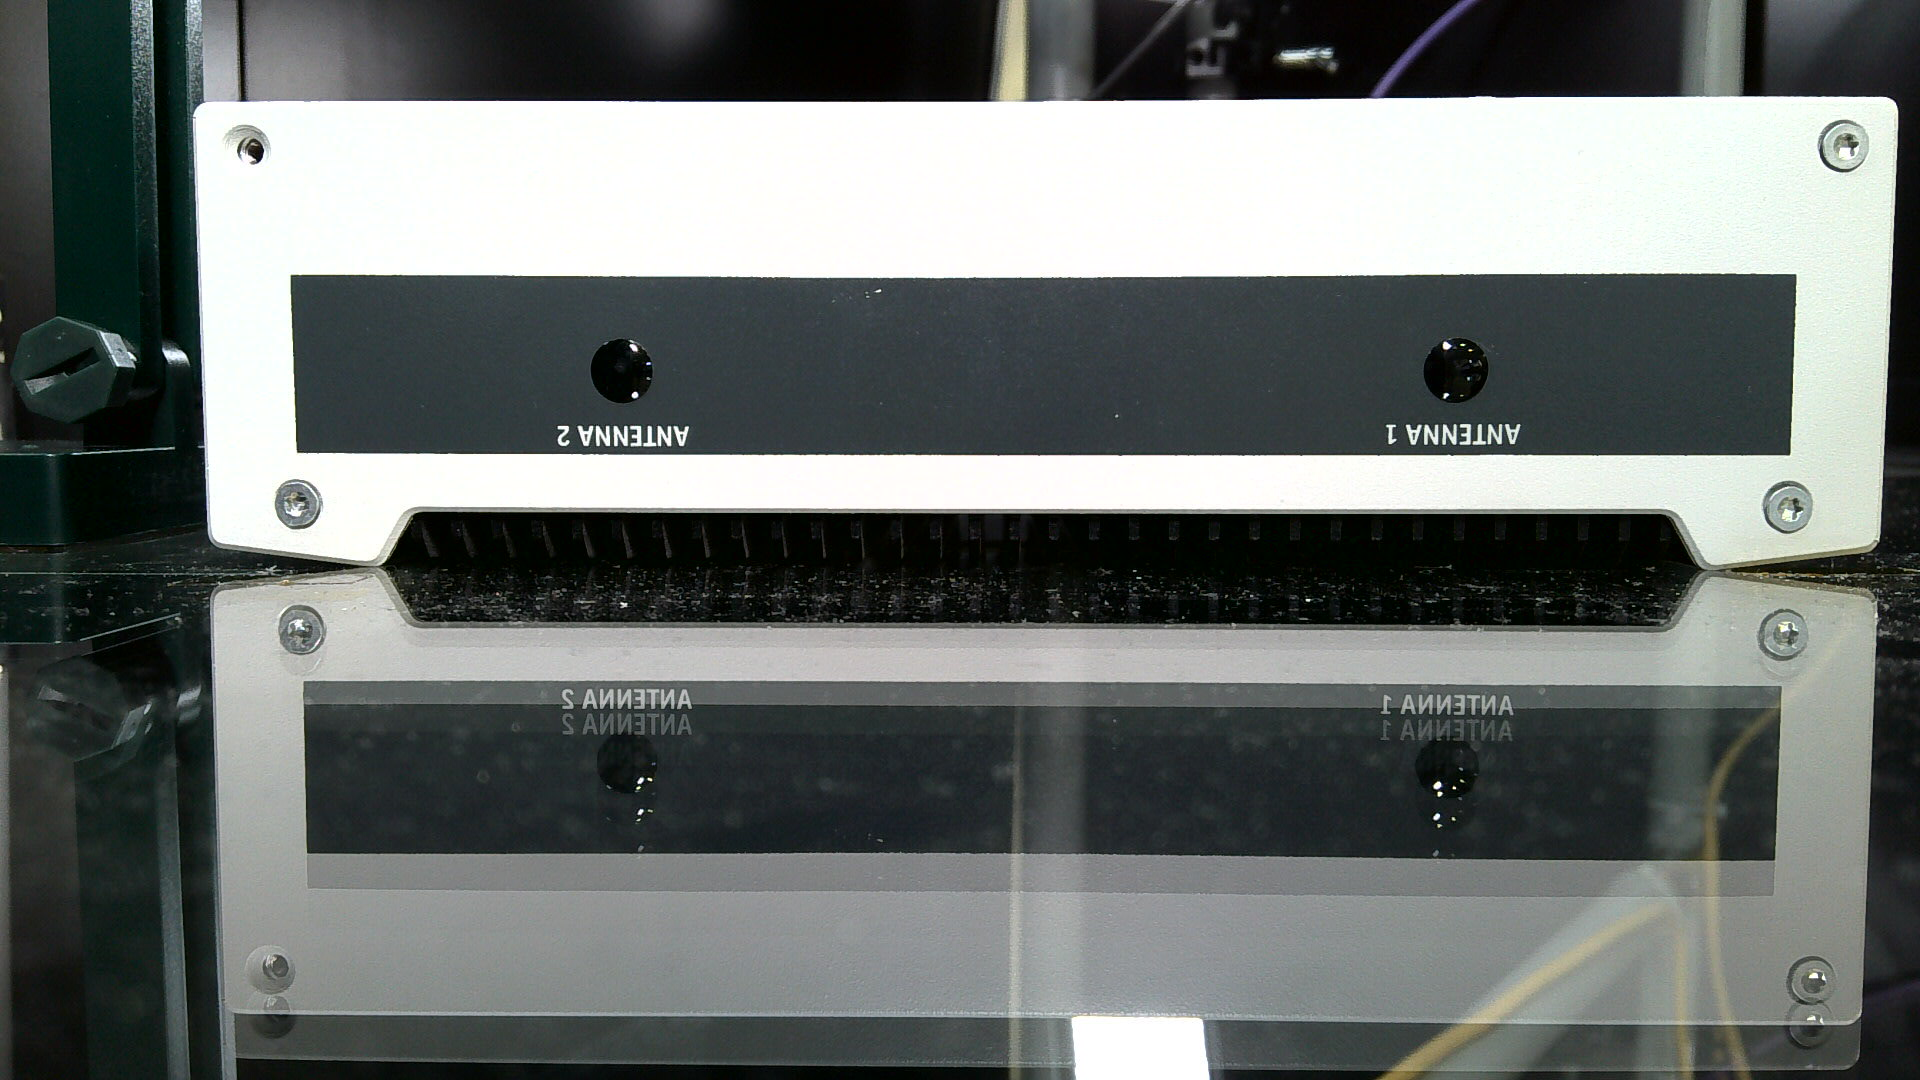CamBack: (156, 59, 1920, 575)
Loch: (210, 117, 281, 183)
Schraube_gespiegelt: (1779, 948, 1844, 1058), (270, 595, 334, 683), (1751, 601, 1815, 688)
Schraube_halb: (1754, 473, 1822, 543), (1807, 113, 1874, 179), (265, 473, 328, 538)
